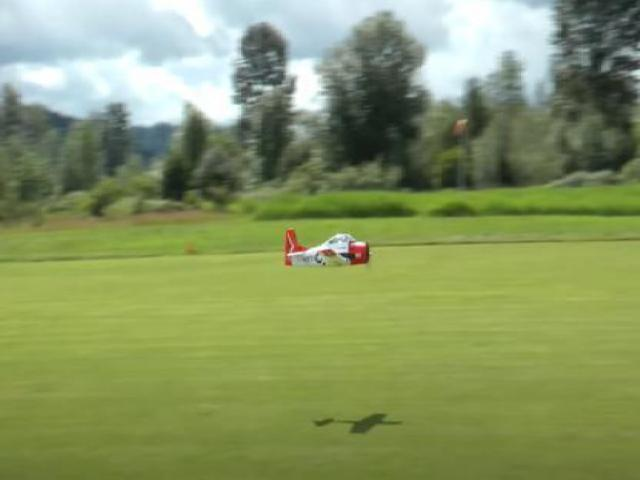uav: (280, 224, 372, 272)
